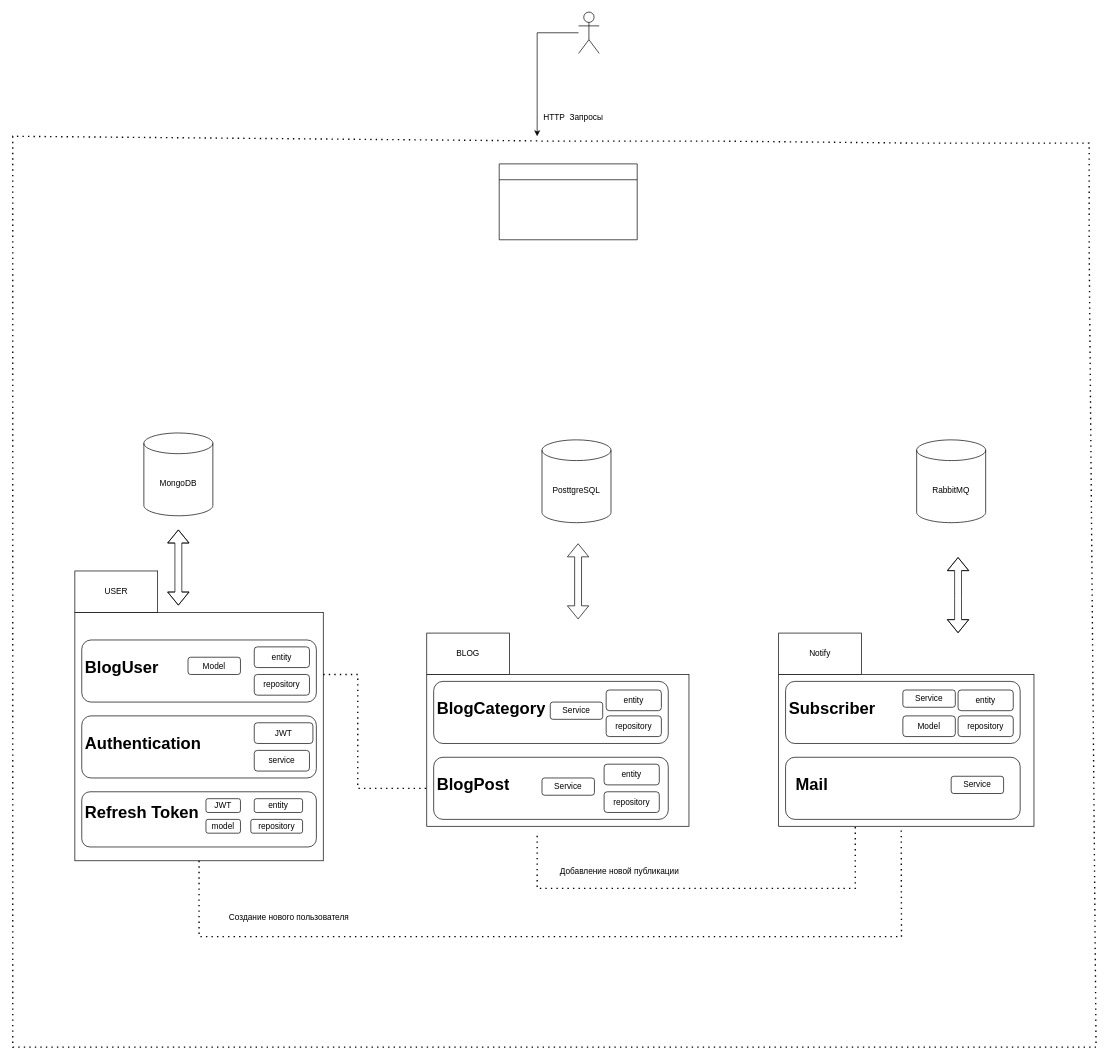
The diagram is 1109 pixels wide and 1061 high, and some of its shapes have lost their labels. The centre of each missing label's shape, as x and y in pixels:
"API GATEWAY" goes at [568,201].
"Клиенты" goes at [588,32].
